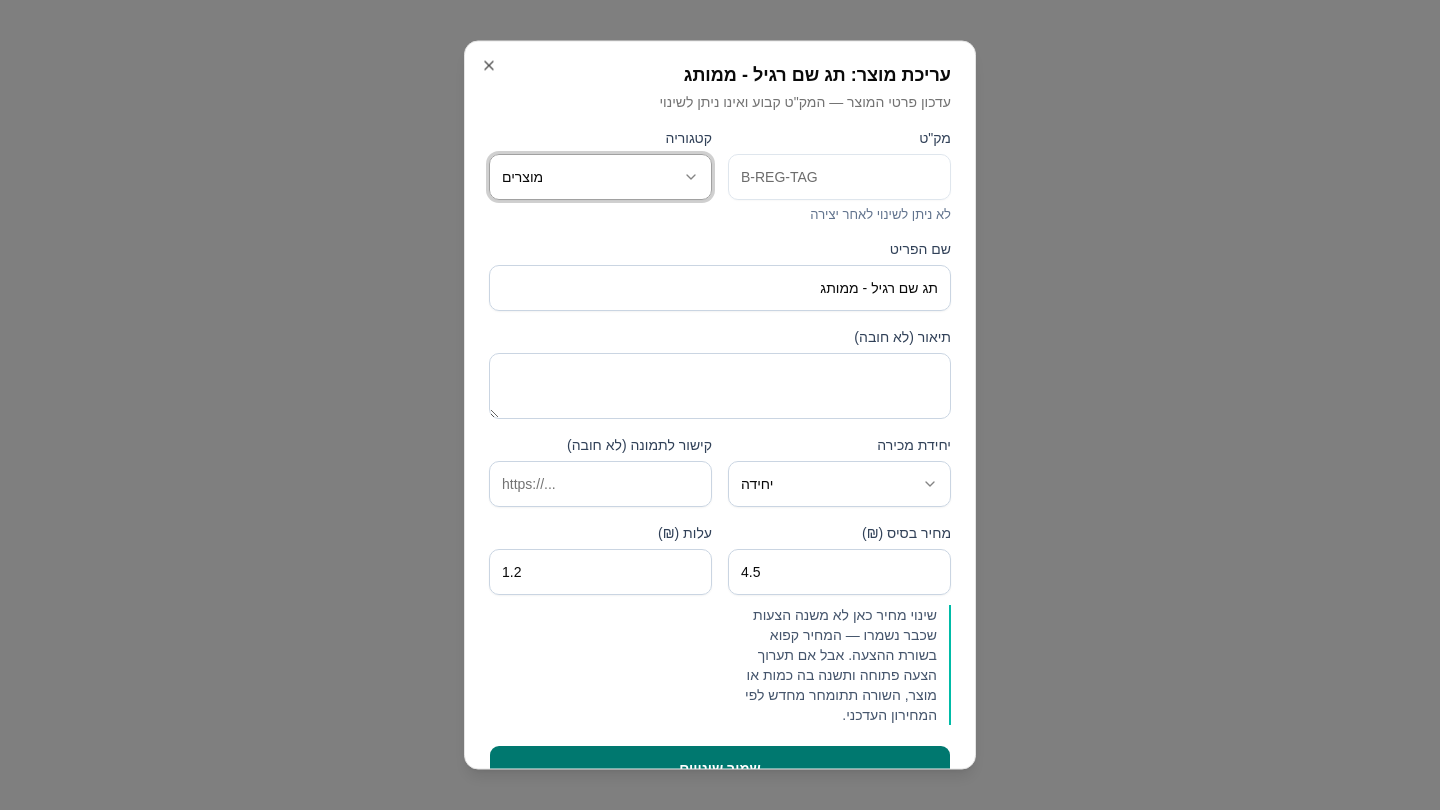
Test case: מחיר ועלות — עקביות ותקרת-שפיות › עלות גבוהה מהמחיר ⇒ התראה ענבר; עלות תקינה ⇒ בלי
Replace the text in the number field with test id "product-form-cost" with "6": (600, 572) [489,549,712,595]
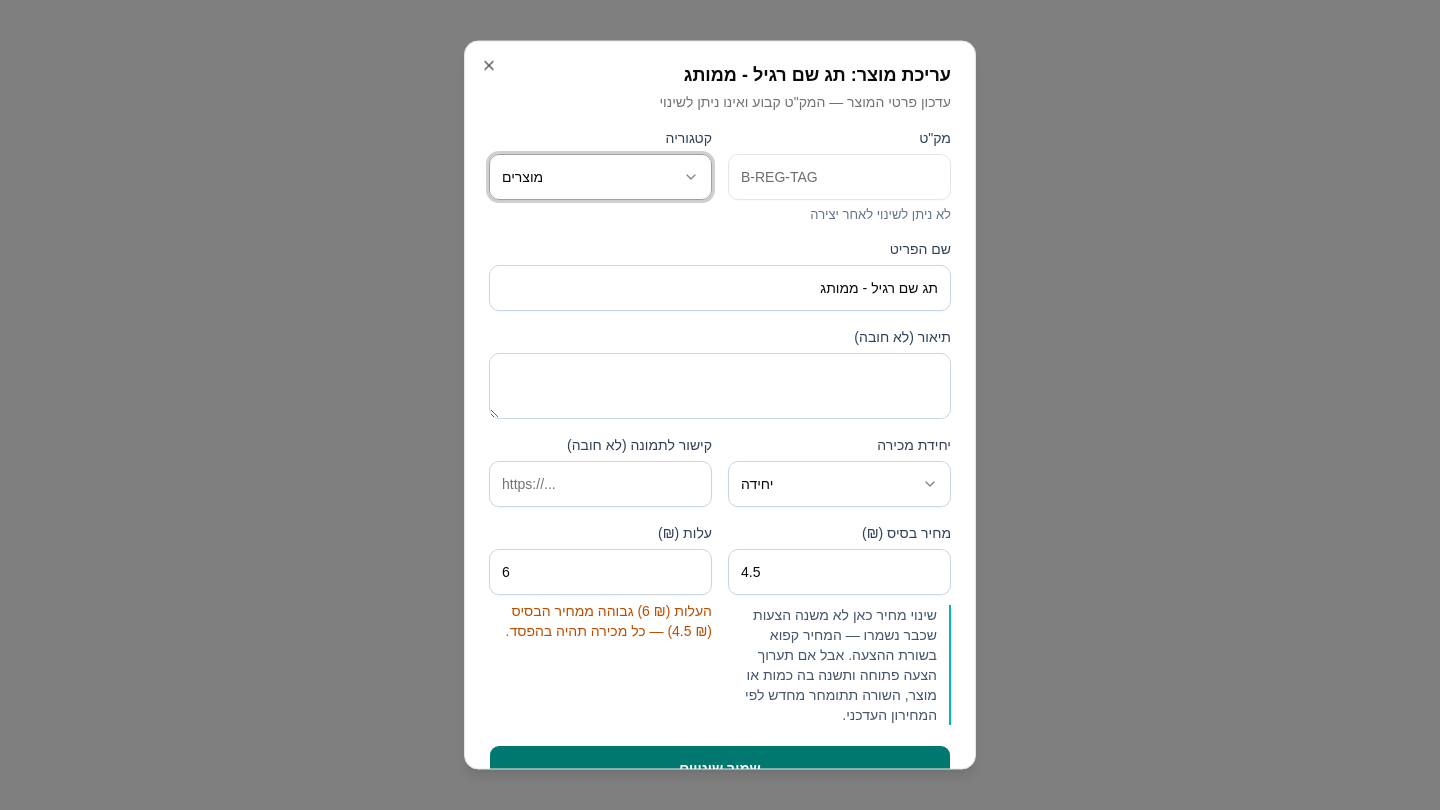
Now the message with test id "product-cost-notice" reads "העלות ( 6 ₪ ) גבוהה ממחיר הבסיס ( 4.5 ₪ ) — כל מכירה תהיה בהפסד.", box [506,603,712,639]
